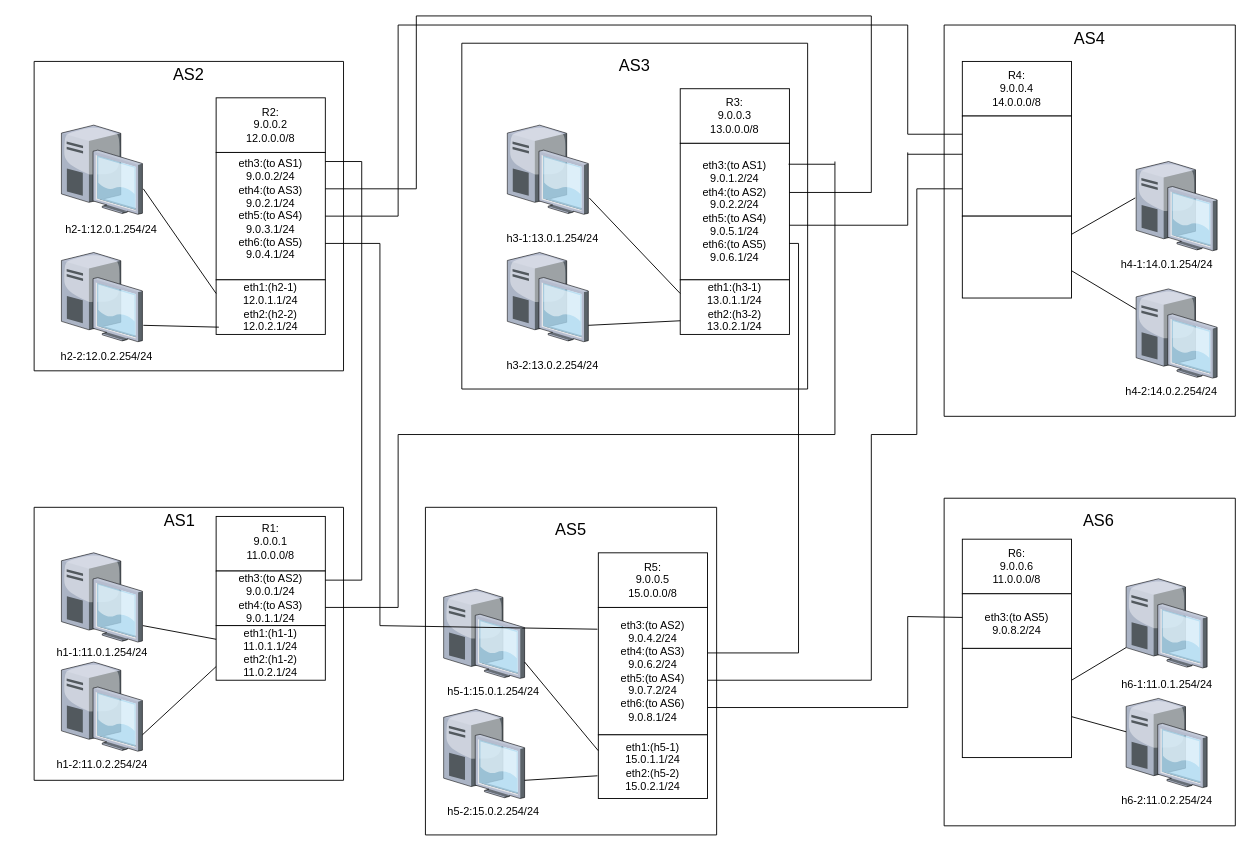
Image size: 1251x851. Some labels were removed from this diagram. The box of each missing label's shape, as (x1, y1, x2, y2) in pixels:
eth1:(h4-1) 14.0.1.1/24 eth2:(h4-2) 14.0.2.1/24: (961, 215, 1072, 298)
eth1:(h6-1) 11.0.1.1/24 eth2:(h6-2) 11.0.2.1/24: (961, 647, 1072, 758)
eth3:(to AS2) 9.0.3.2/24 eth4:(to AS3) 9.0.5.2/24 eth5:(to AS5) 9.0.7.1/24: (961, 115, 1072, 216)
